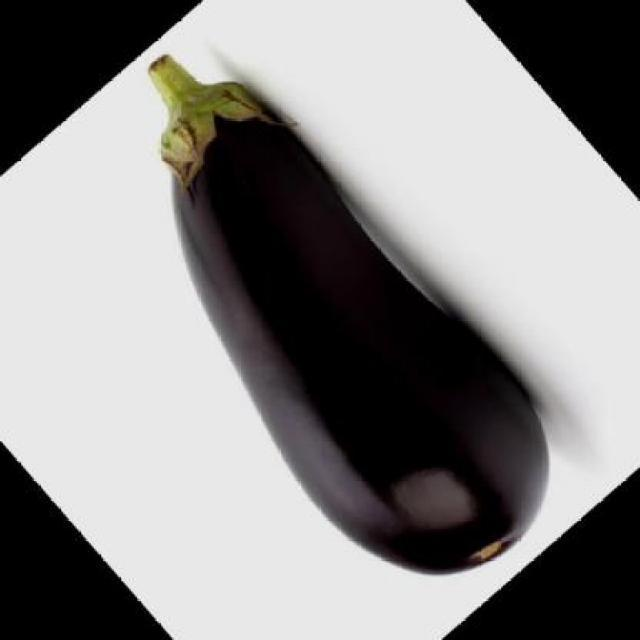eggplant: (22, 12, 600, 626)
